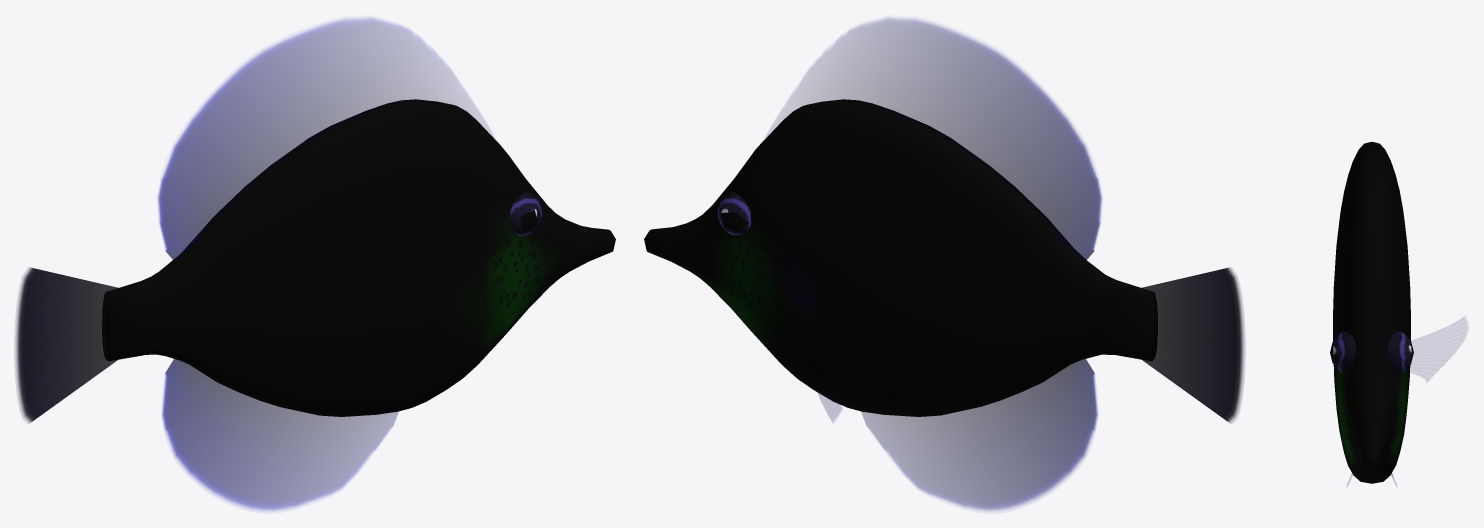
The model's file is purple_tang_lod1.glb.
The picture shows the model from 3 angles, left to right: view 1: azimuth 30°, elevation 25°; view 2: azimuth 150°, elevation 25°; view 3: azimuth 270°, elevation 25°; orthographic projection.
Visible parts, largest first — view 1: Body, FinDorsal, FinAnal, FinCaudal, EyeR; view 2: Body, FinDorsal, FinAnal, FinCaudal, FinPectoralL, EyeL; view 3: Body, FinPectoralL, EyeL, EyeR.
Part boxes in pixels (x1=…): Body: x1=102, y1=99, x2=615, y2=416; FinDorsal: x1=158, y1=18, x2=494, y2=261; FinAnal: x1=162, y1=359, x2=398, y2=510; FinCaudal: x1=15, y1=267, x2=119, y2=423; EyeR: x1=510, y1=192, x2=542, y2=236; Body: x1=644, y1=99, x2=1157, y2=416; FinDorsal: x1=765, y1=18, x2=1101, y2=261; FinAnal: x1=861, y1=359, x2=1097, y2=510; FinCaudal: x1=1140, y1=267, x2=1244, y2=423; FinPectoralL: x1=786, y1=250, x2=828, y2=317; EyeL: x1=717, y1=192, x2=751, y2=234; Body: x1=1333, y1=142, x2=1410, y2=483; FinPectoralL: x1=1410, y1=317, x2=1467, y2=381; EyeL: x1=1387, y1=330, x2=1413, y2=374; EyeR: x1=1330, y1=331, x2=1356, y2=374.
Size of the model in its own units: 1 by 0.7662 by 0.2831.
4 materials, 3 textured.
